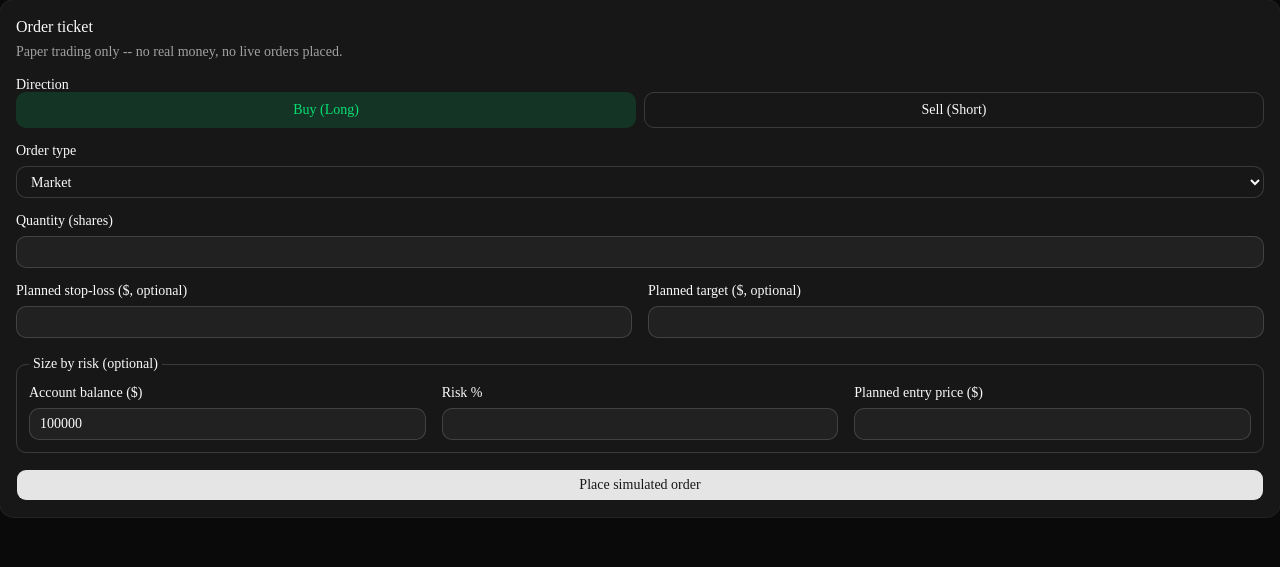
it: OrderTicket -- size by risk › shows the engine's rejection and leaves quantity alone when entry equals stop
Step 1. Type "7" into the field labelled "Quantity (shares)" → [640, 252], box [16,236,1264,268]
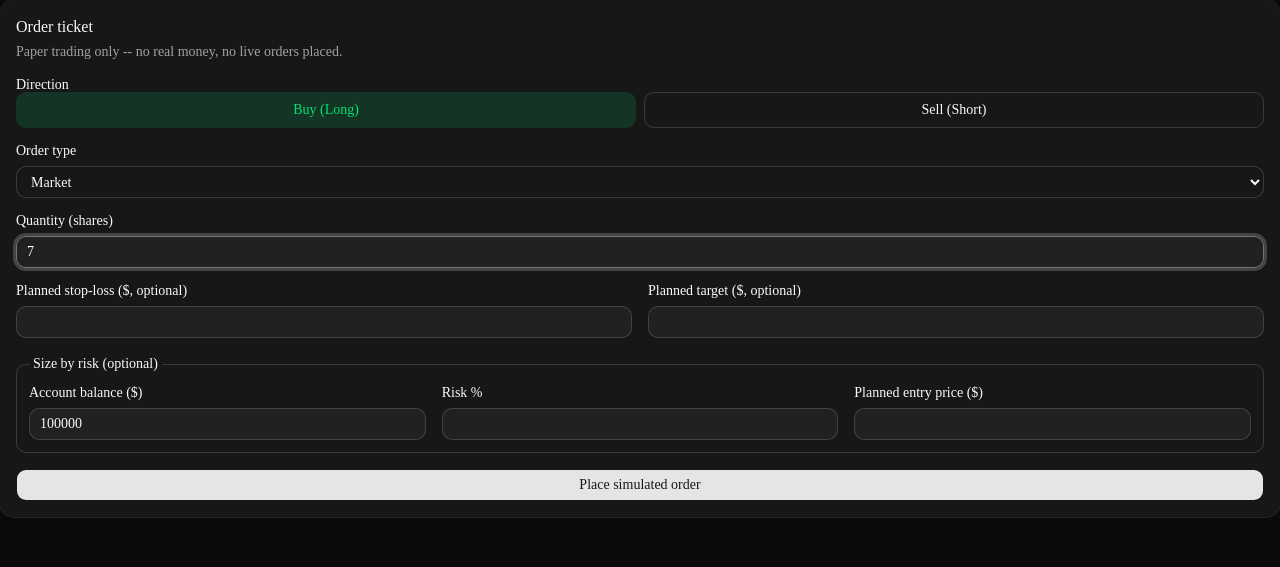
Step 2. Type "50" into the field labelled "Planned entry price ($)" → [1053, 424], box [854,408,1251,440]
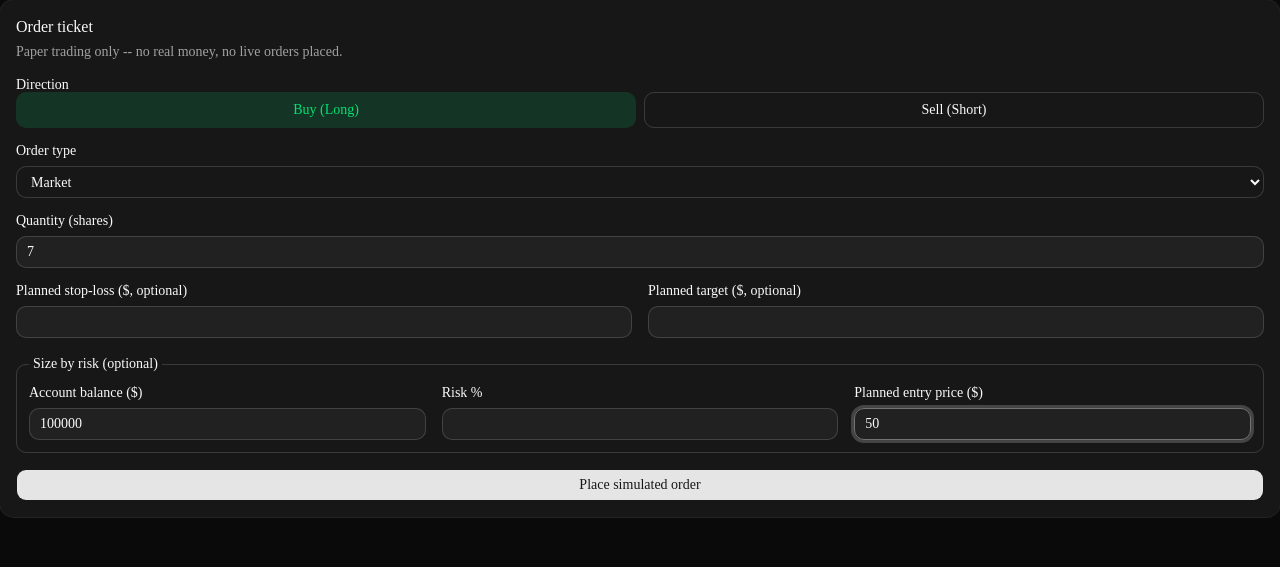
Step 3. Type "50" into the field labelled "Planned stop-loss ($, optional)" → [324, 322], box [16,306,632,338]
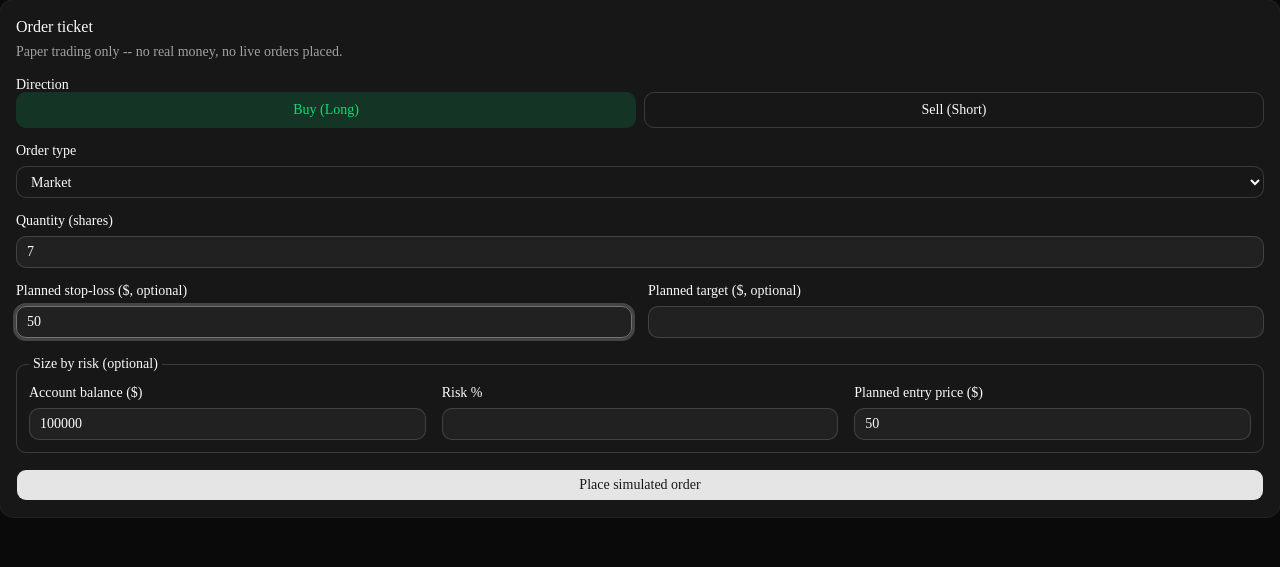
Step 4. Type "1" into the field labelled "Risk %" → [640, 424], box [442,408,838,440]
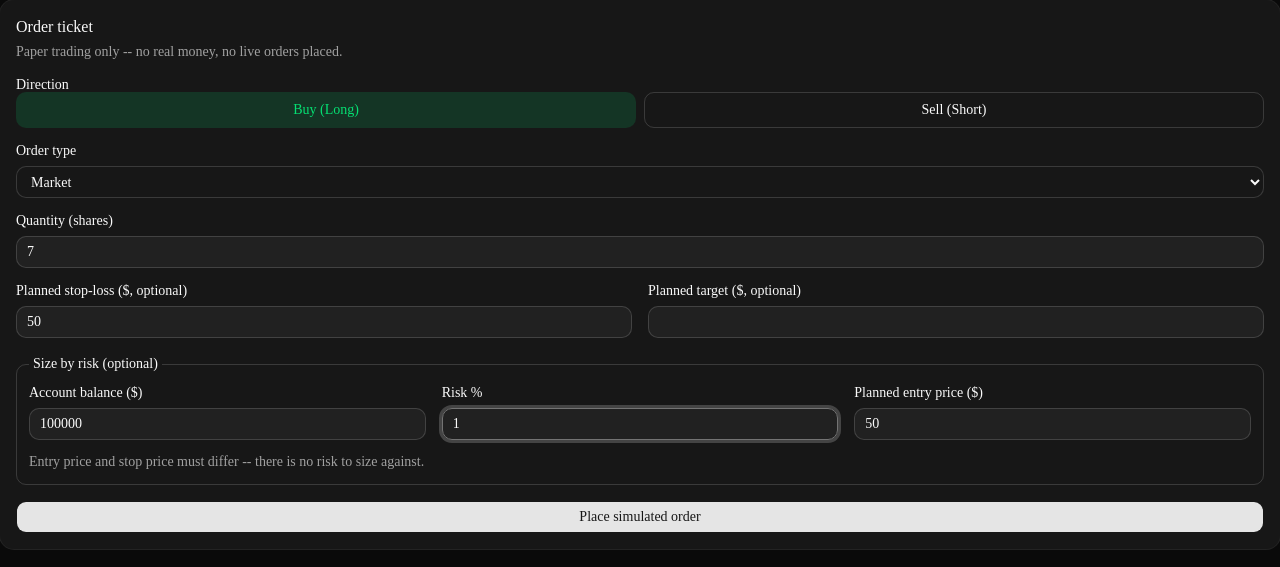
Now the message reads "Entry price and stop price must differ -- there is no risk to size against.", box [29,454,424,469]
